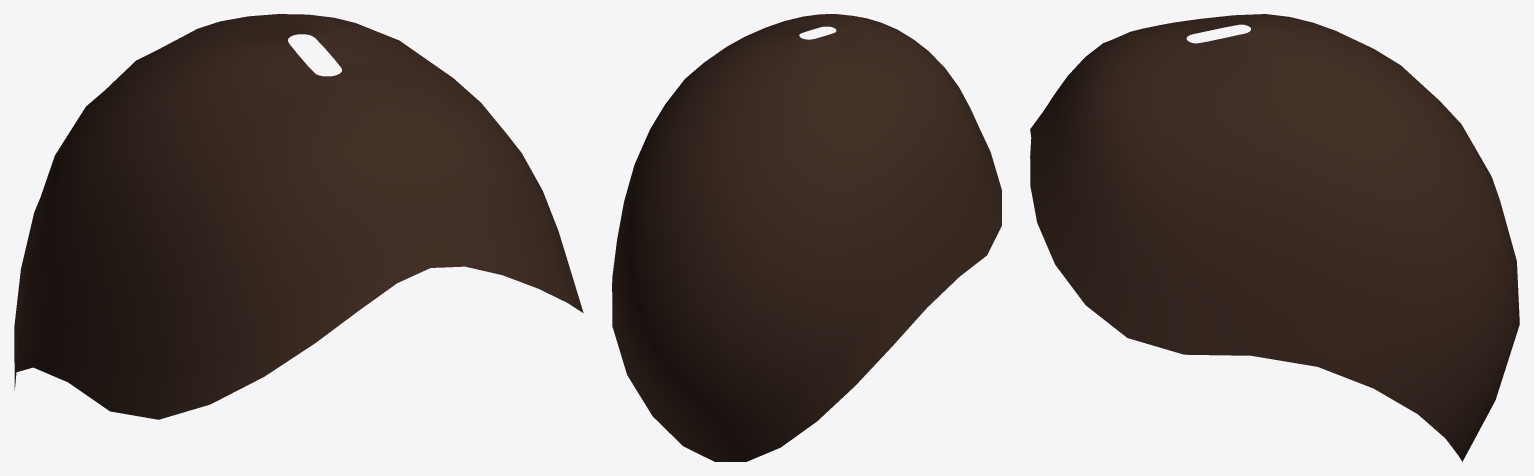
File: swept-back.glb
3 renders of one model, left to right at view 1: azimuth 30°, elevation 25°; view 2: azimuth 150°, elevation 25°; view 3: azimuth 270°, elevation 25°, orthographic. The views are drawn at different scales.
Parts seen in each view (by area): view 1: hair-swept-back; view 2: hair-swept-back; view 3: hair-swept-back.
Boxes of the visible parts, bbox=[...] form: hair-swept-back: bbox=[14, 14, 583, 419]; hair-swept-back: bbox=[612, 14, 1001, 461]; hair-swept-back: bbox=[1030, 14, 1519, 461].
Size of the model in its own units: 0.1643 by 0.1807 by 0.1893.
